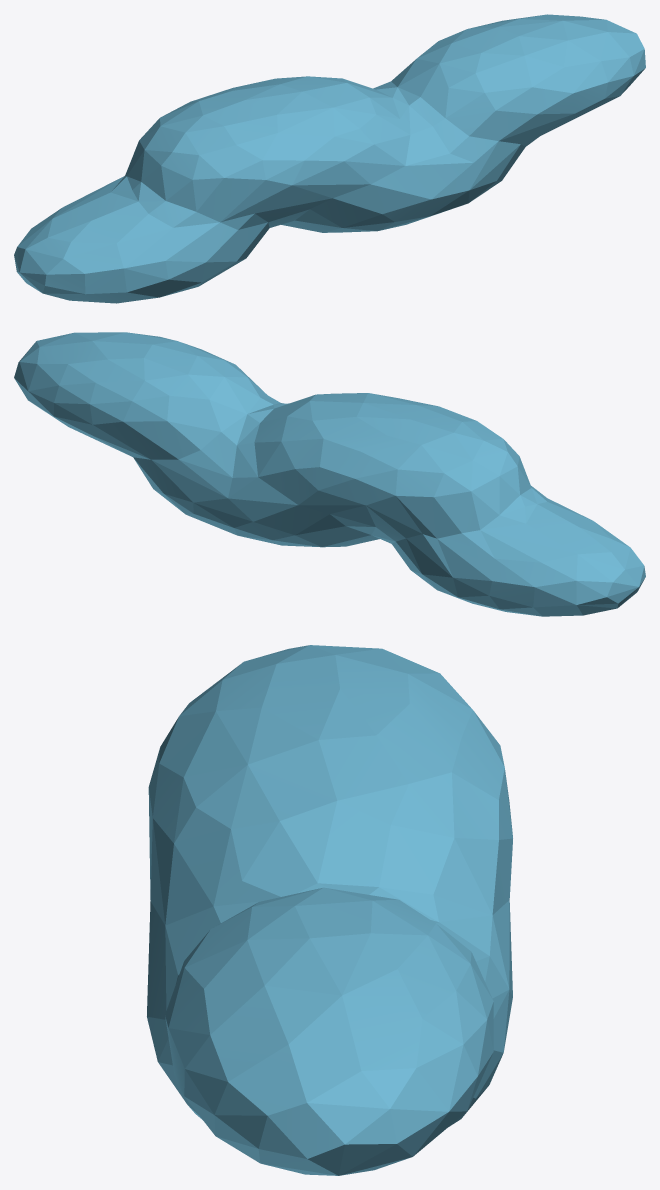
Rendered from oval_cloud_4.fbx.
The picture shows the model from 3 angles, top to bottom: view 1: azimuth 30°, elevation 25°; view 2: azimuth 150°, elevation 25°; view 3: azimuth 270°, elevation 25°; orthographic projection. The views are drawn at different scales.
Visible parts, largest first — view 1: cloud_64; view 2: cloud_64; view 3: cloud_64.
Boxes of the visible parts, x1,y1,x2,y2 form: cloud_64: (14, 14, 645, 303); cloud_64: (14, 332, 645, 616); cloud_64: (147, 645, 512, 1175).
Size of the model in its own units: 716 by 180 by 184.
